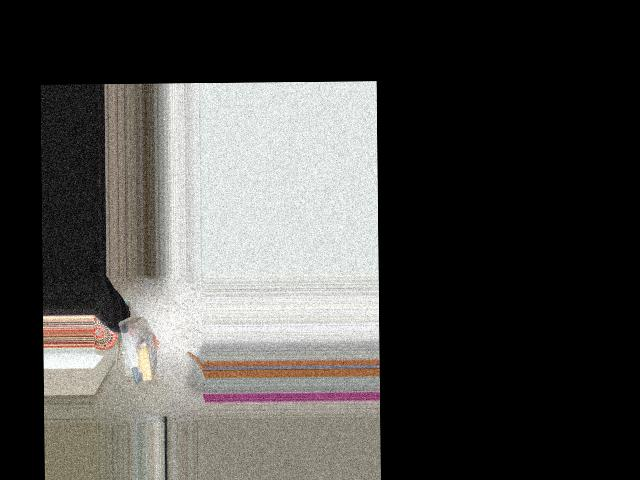cheese: (116, 317, 158, 384)
